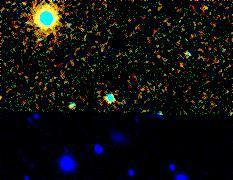star: (190, 0, 220, 22)
